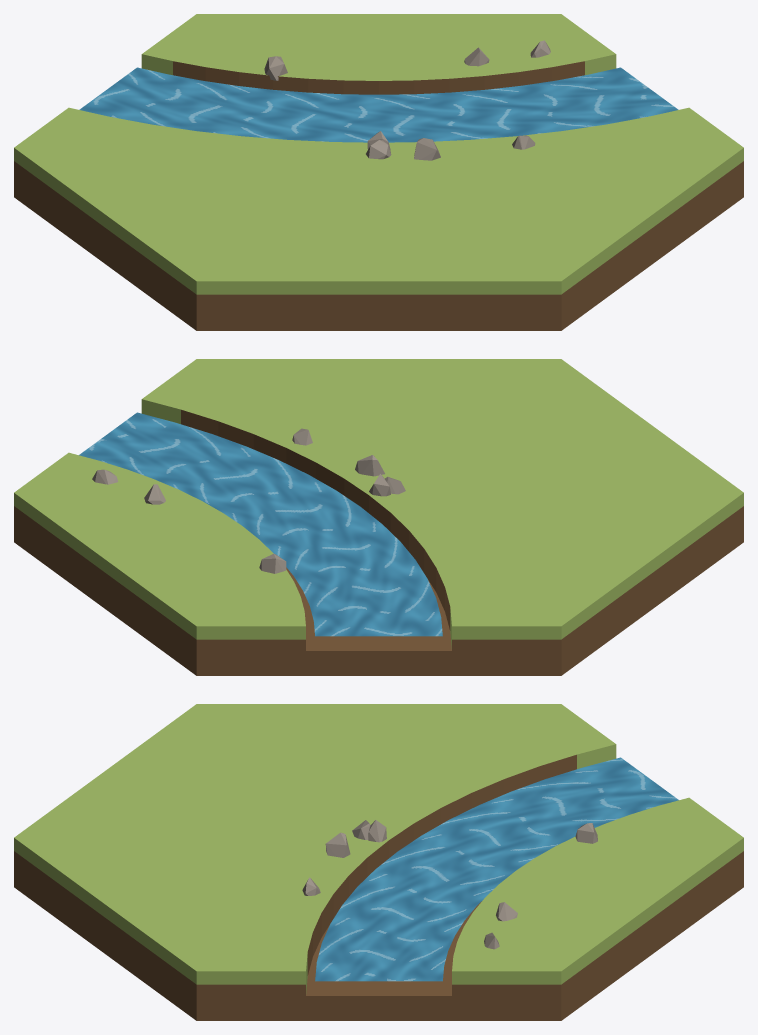
Rendered from tile_river_curve.glb.
3 views of the same model, one above another, from view 1: azimuth 30°, elevation 25°; view 2: azimuth 150°, elevation 25°; view 3: azimuth 270°, elevation 25° (orthographic).
Parts seen in each view (by area): view 1: ground.001, water.001, bank_stones.001; view 2: ground.001, water.001, bank_stones.001; view 3: ground.001, water.001, bank_stones.001.
Boxes of the visible parts, x1,y1,x2,y2 form: ground.001: (14, 14, 743, 330); water.001: (79, 67, 678, 142); bank_stones.001: (264, 40, 550, 160); ground.001: (14, 359, 743, 675); water.001: (79, 412, 442, 636); bank_stones.001: (92, 428, 405, 573); ground.001: (14, 704, 743, 1020); water.001: (315, 757, 678, 981); bank_stones.001: (302, 820, 597, 949).
Size of the model in its own units: 1.73 by 0.2044 by 2.
Materials: 4 (1 with a texture image).
